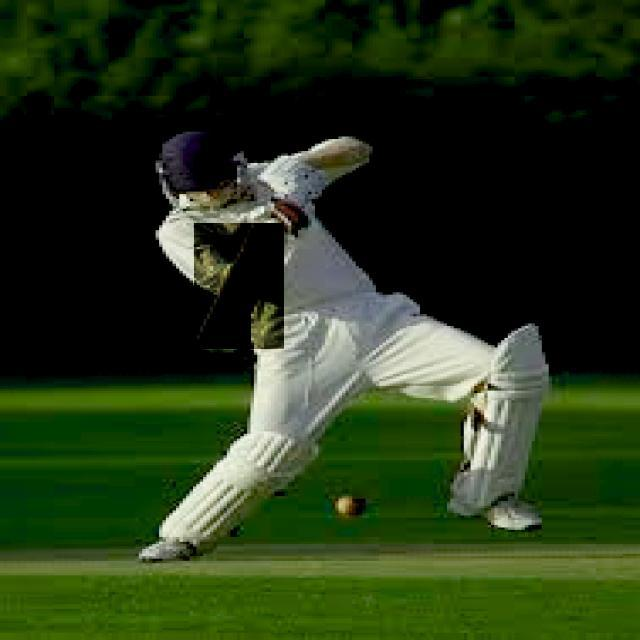bat: (193, 223, 283, 348)
toe: (189, 336, 232, 352)
